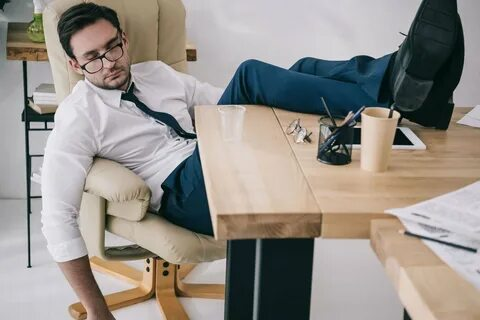sleep: (28, 1, 212, 240)
